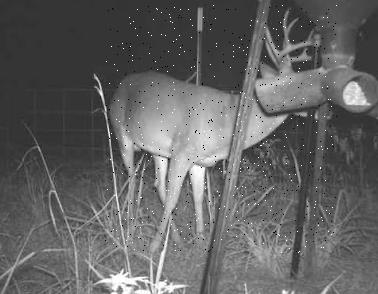Deer: (105, 5, 337, 253)
